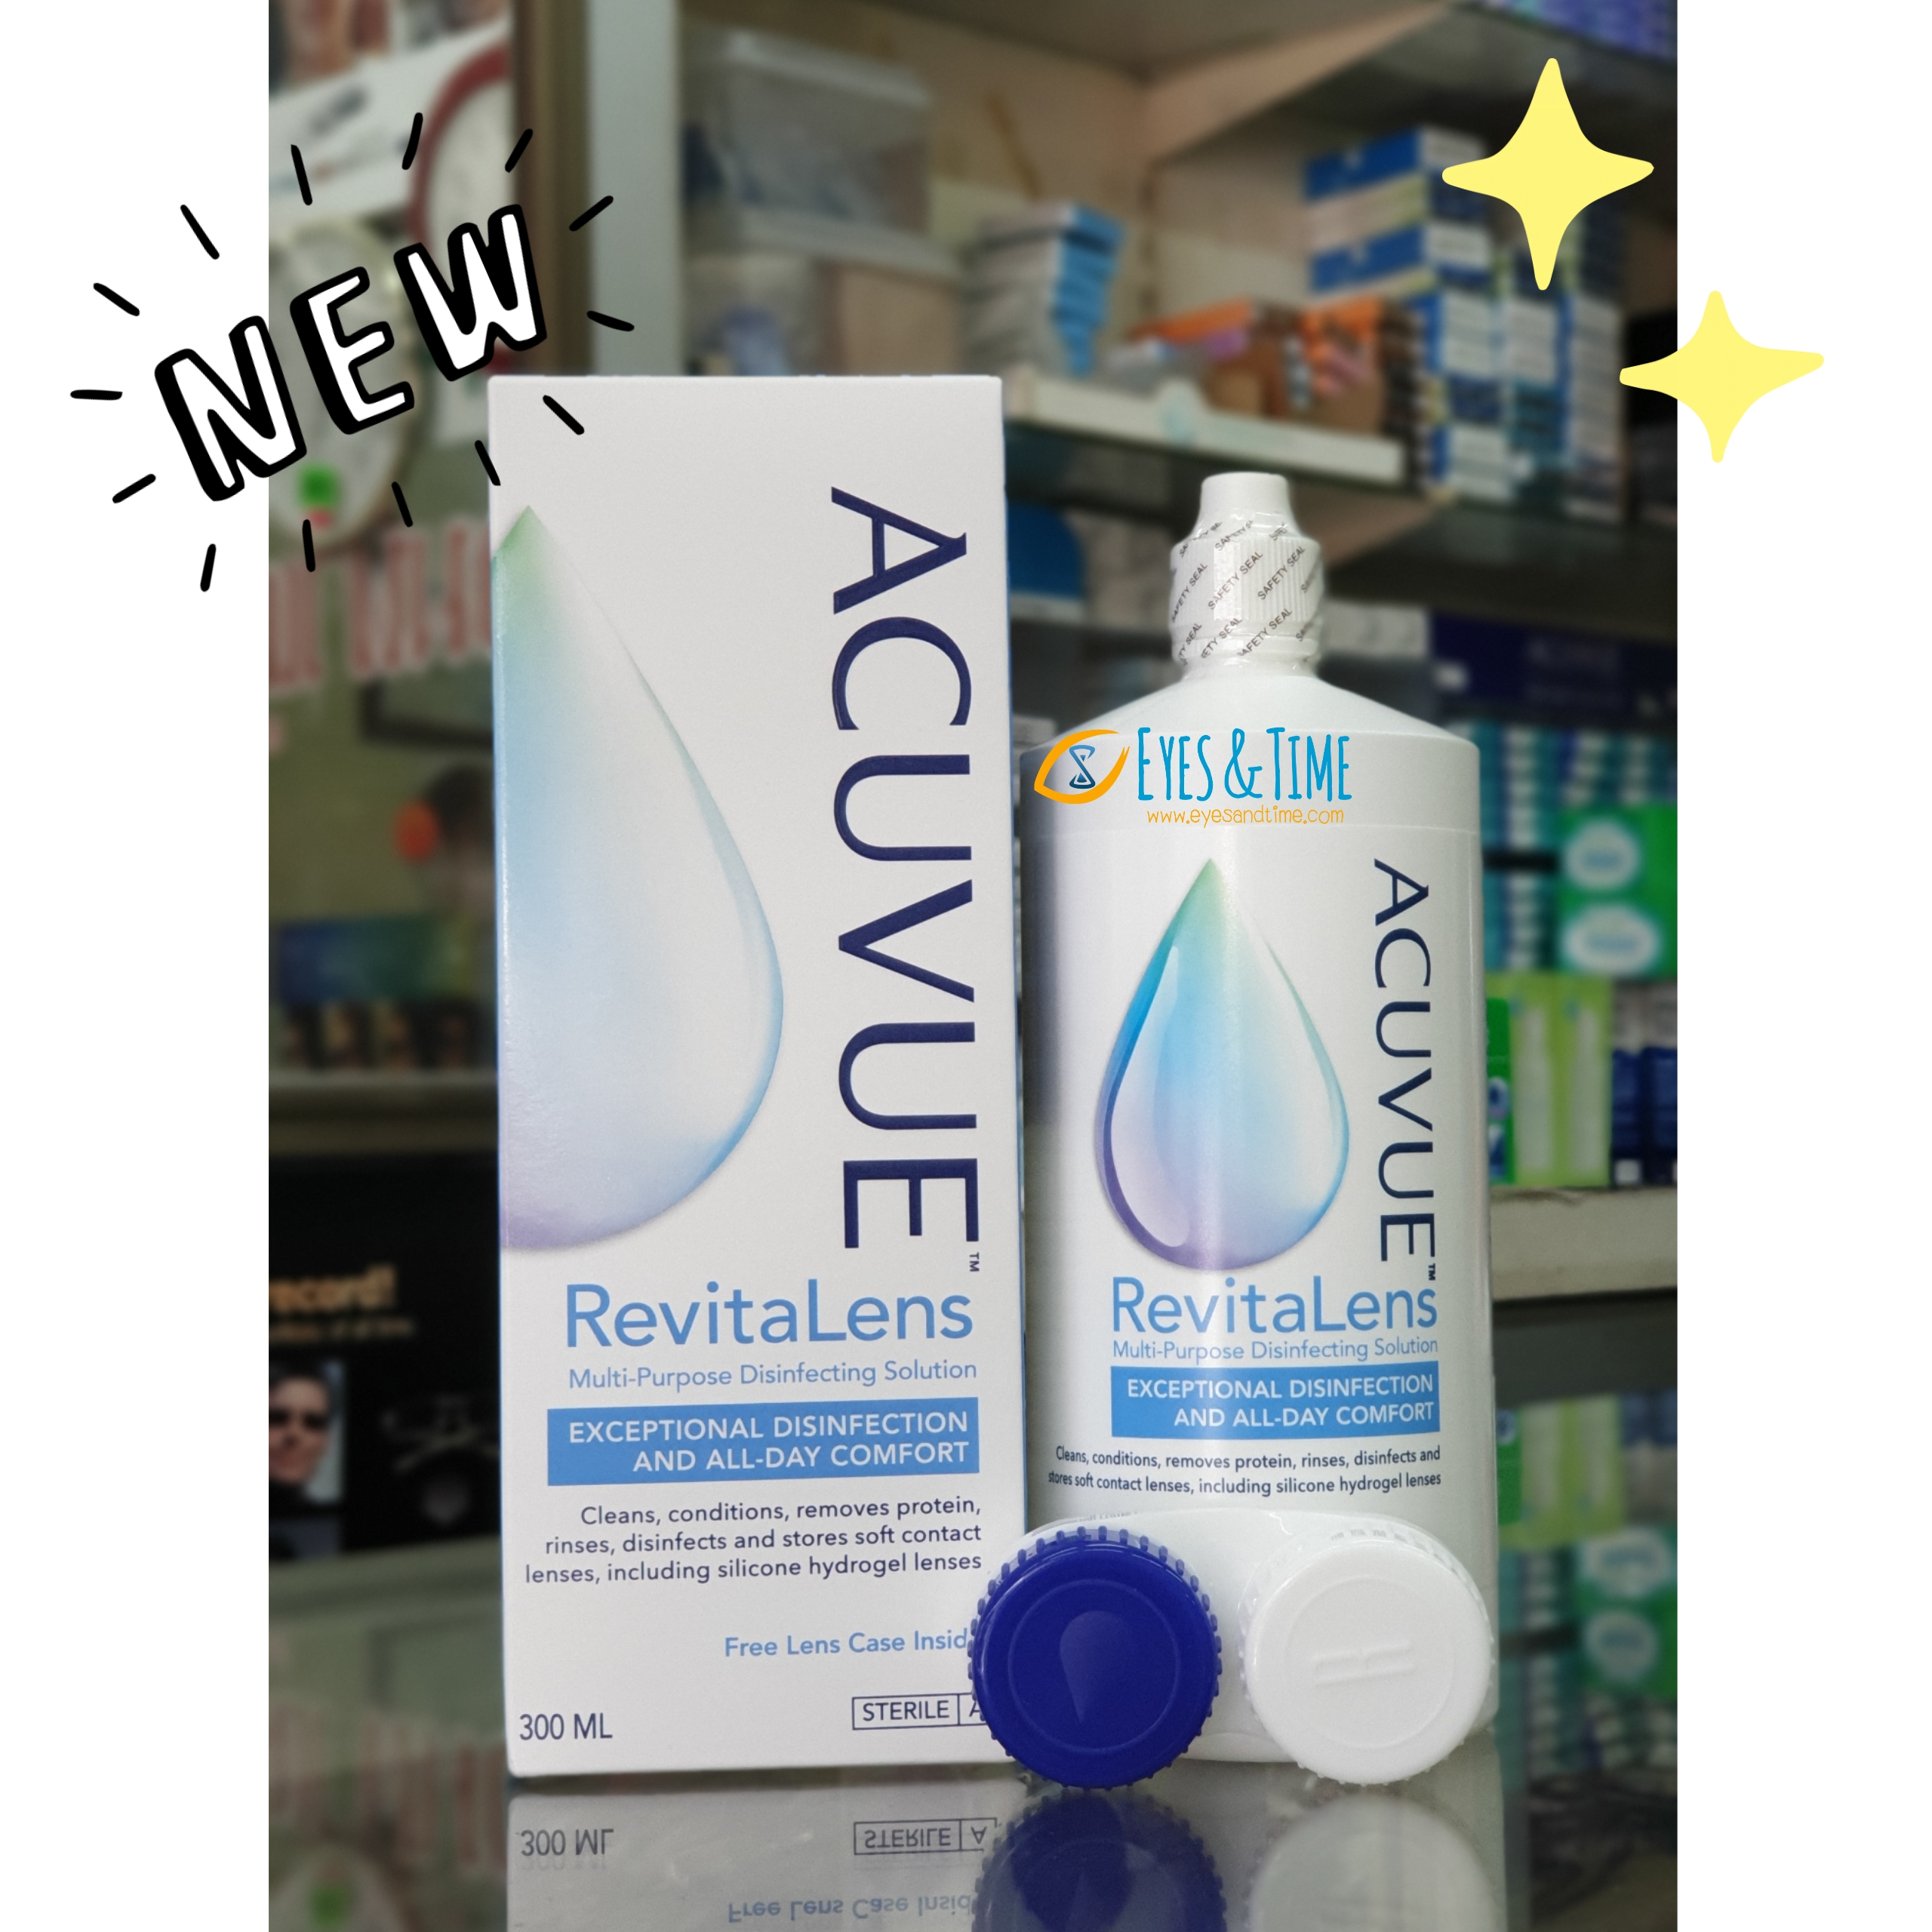Cleaning_solution: (994, 455, 1507, 1792)
